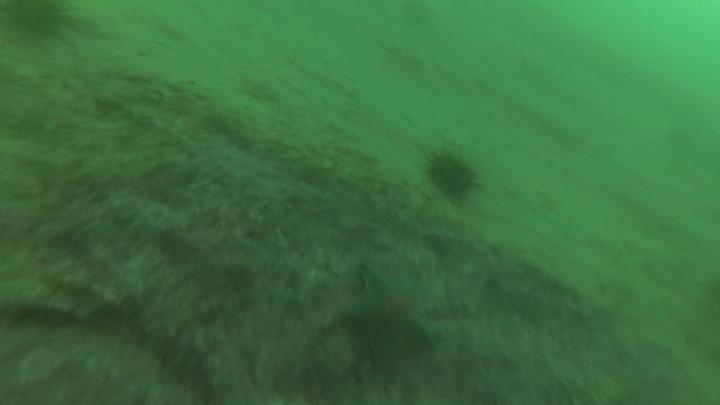echinus: (423, 147, 481, 203), (3, 1, 73, 43)
starfish: (337, 262, 441, 369)
